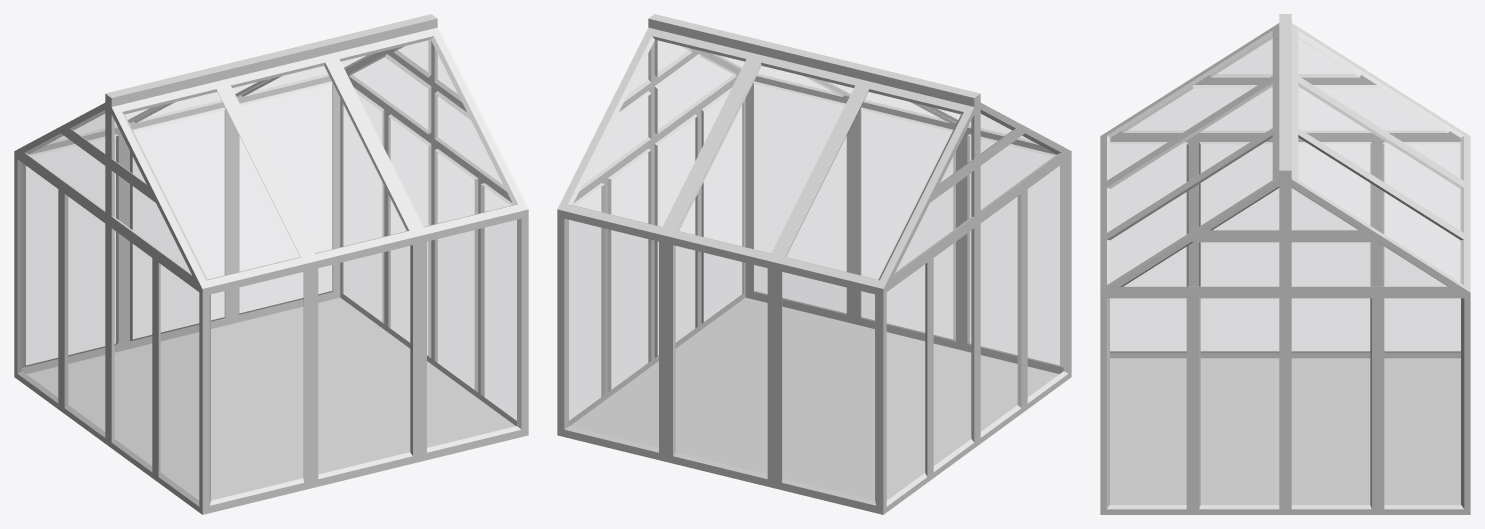
The model's file is greenhouse.glb.
3 renders of one model, left to right at view 1: azimuth 30°, elevation 25°; view 2: azimuth 150°, elevation 25°; view 3: azimuth 270°, elevation 25°, orthographic.
Parts seen in each view (by area): view 1: greenhouse; view 2: greenhouse; view 3: greenhouse.
Part boxes in pixels (x1,y1,x2,y2): greenhouse: (14,14,528,514); greenhouse: (557,14,1071,514); greenhouse: (1100,14,1470,514).
Size of the model in its own units: 0.6 by 0.6158 by 0.6.
1 material, 1 textured.
